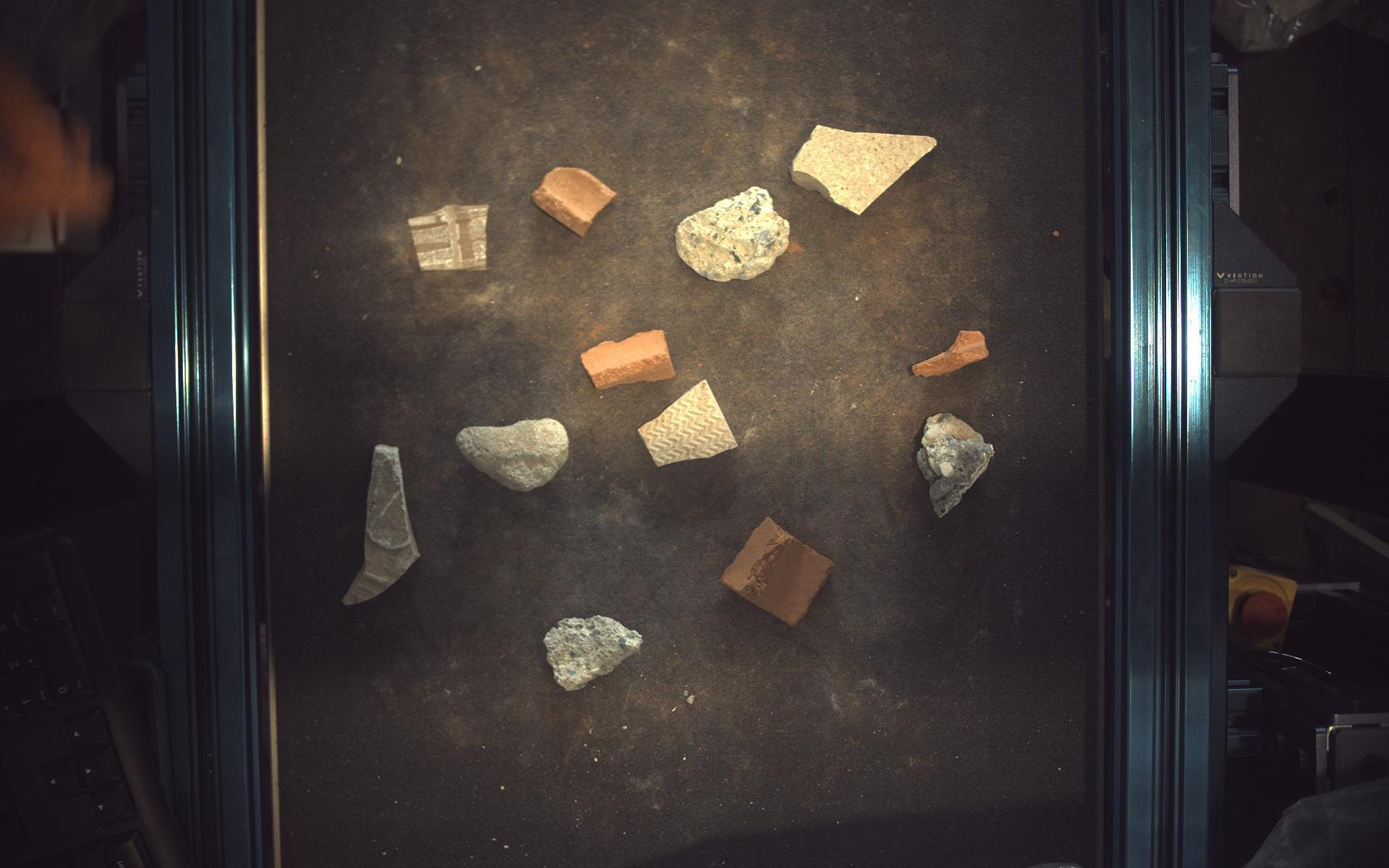brick: (722, 517, 835, 626), (532, 166, 616, 237), (582, 329, 676, 389), (913, 331, 990, 376)
concrete: (677, 186, 791, 281), (456, 418, 569, 492), (918, 413, 996, 518), (545, 616, 643, 692)
tile: (794, 124, 938, 214), (342, 445, 420, 605), (640, 380, 738, 467), (408, 204, 489, 271)
